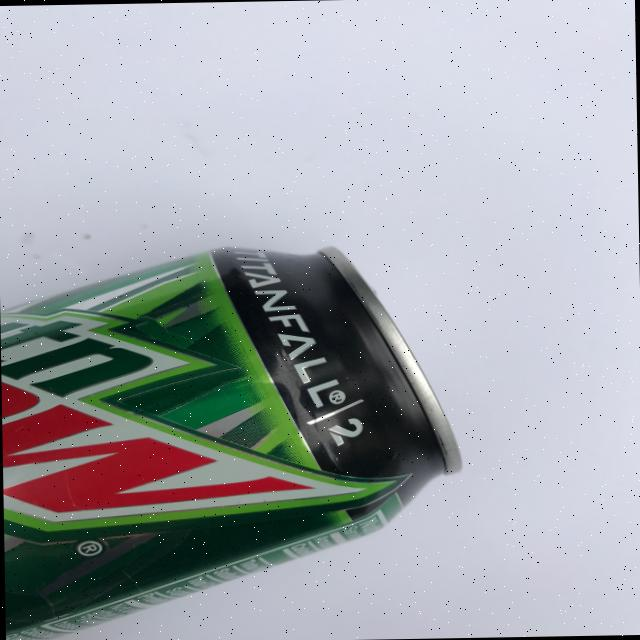metal: (0, 241, 465, 640)
